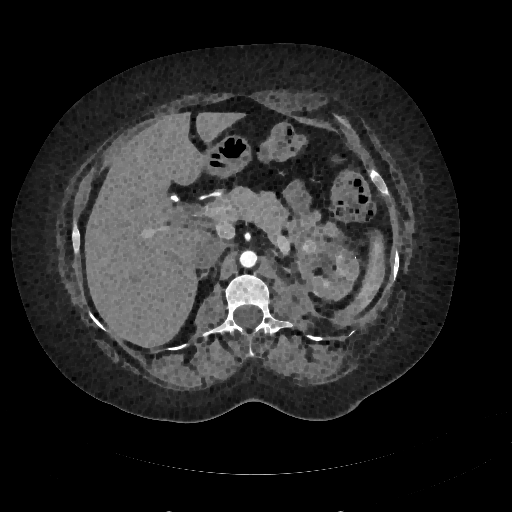Lesion: (299, 238, 318, 254)
